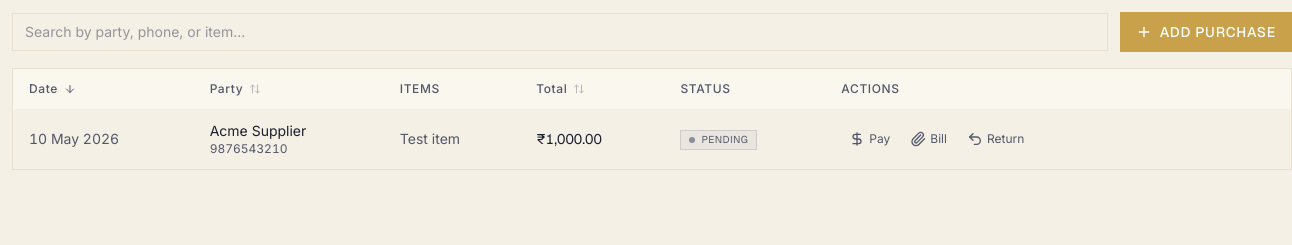
Test: PurchasesTable — render states › shows no-matches copy when search filters out all rows
In the search field with placeholder "Search by party, phone, or item…": point(560, 32) [12,13,1108,51], type "nope"
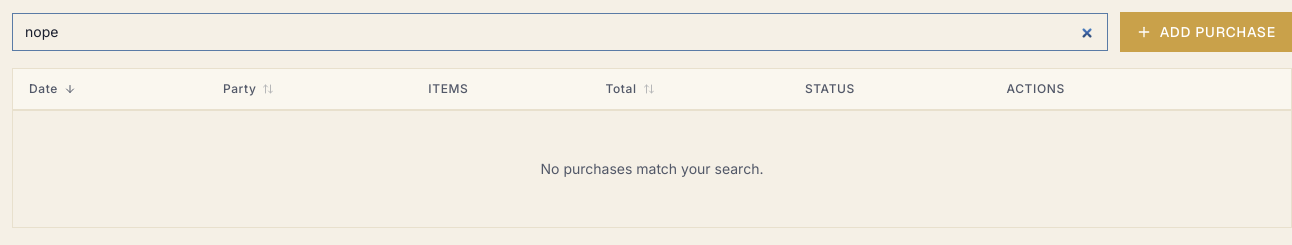
Now the text "No purchases match your search." is shown, box [540,160,764,177]
